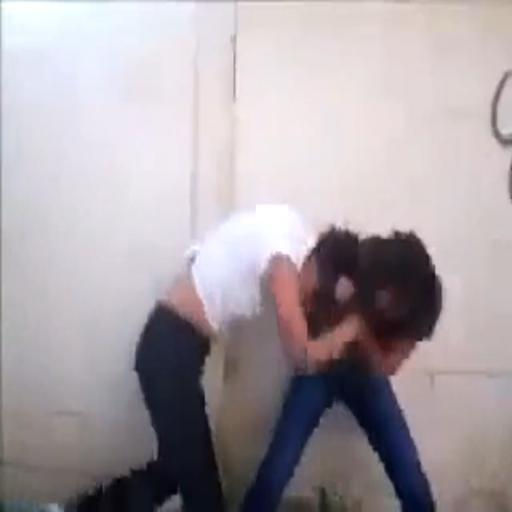violencia: (62, 187, 456, 498)
